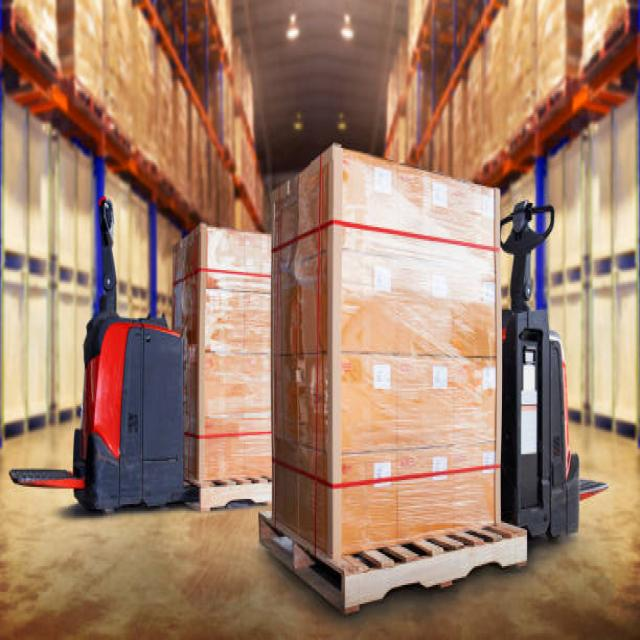Wooden-Pallets: (254, 506, 533, 621)
